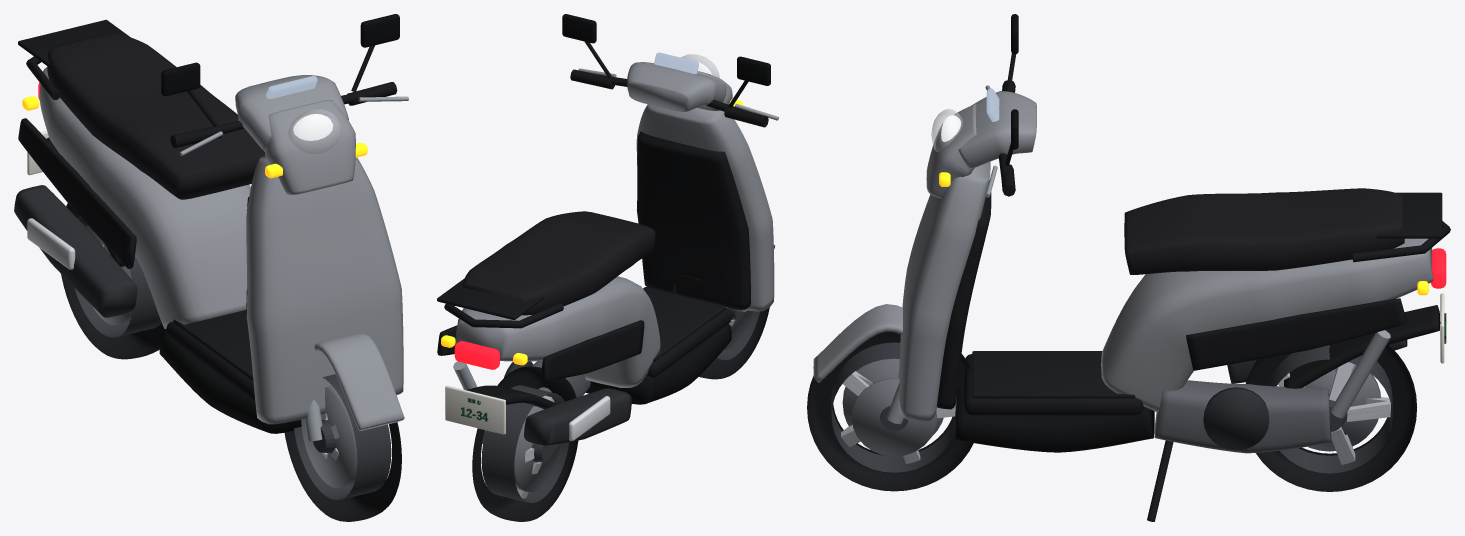
The model's file is bike_scooter.glb.
3 views of the same model, side by side, from view 1: azimuth 30°, elevation 25°; view 2: azimuth 150°, elevation 25°; view 3: azimuth 270°, elevation 25° (orthographic). The views are drawn at different scales.
Visible parts, largest first — view 1: legShield, rearBody, seat, muffler, cowl, frontFender, sidePanelR, underTray, wheel_F_barrel, wheel_F_tyre, barCover, wheel_F_disc (+16 smaller); view 2: apronInner, seat, rearBody, legShield, wheel_R_tyre, wheel_R_barrel, barCover, muffler, sidePanelR, underTray, floorMat, plate (+17 smaller); view 3: rearBody, seat, legShield, sidePanelL, engineUnit, underTray, floorMat, wheel_R_tyre, wheel_F_tyre, barCover, discF, floorboard (+16 smaller).
Boxes of the visible parts, <box> form: legShield: <box>246,156,403,424</box>; rearBody: <box>39,67,250,328</box>; seat: <box>47,33,264,199</box>; muffler: <box>14,185,137,317</box>; cowl: <box>264,100,355,194</box>; frontFender: <box>314,333,404,430</box>; sidePanelR: <box>18,118,136,268</box>; underTray: <box>159,330,301,433</box>; wheel_F_barrel: <box>294,374,391,500</box>; wheel_F_tyre: <box>284,422,401,521</box>; barCover: <box>235,75,348,151</box>; wheel_F_disc: <box>301,386,357,488</box>; apronInner: <box>637,131,750,309</box>; seat: <box>463,211,655,315</box>; rearBody: <box>456,276,660,387</box>; legShield: <box>636,104,774,311</box>; wheel_R_tyre: <box>472,366,578,521</box>; wheel_R_barrel: <box>481,385,569,502</box>; barCover: <box>627,62,726,111</box>; muffler: <box>524,388,631,445</box>; sidePanelR: <box>541,320,644,380</box>; underTray: <box>585,324,731,404</box>; floorMat: <box>643,287,725,362</box>; plate: <box>445,385,505,434</box>; rearBody: <box>1101,238,1433,412</box>; seat: <box>1124,188,1404,274</box>; legShield: <box>898,161,990,421</box>; sidePanelL: <box>1186,298,1406,370</box>; engineUnit: <box>1155,380,1331,453</box>; underTray: <box>955,386,1154,452</box>; floorMat: <box>972,351,1135,398</box>; wheel_R_tyre: <box>1245,345,1416,491</box>; wheel_F_tyre: <box>807,331,973,491</box>; barCover: <box>958,91,1036,168</box>; discF: <box>851,378,937,456</box>; floorboard: <box>964,354,1143,415</box>.
Bounding box in the file's own units: 0.69 × 1.19 × 1.66.
